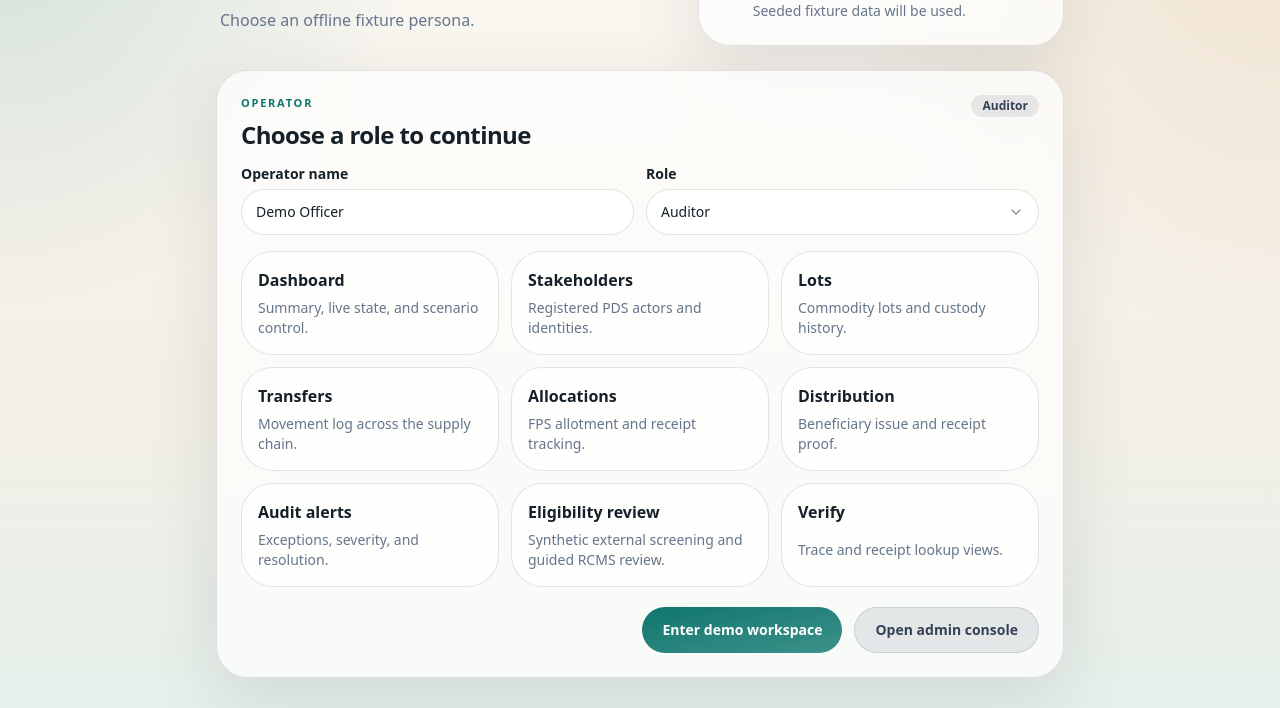
app shell › exposes eligibility review to oversight roles but keeps offline screening read-only
(page scrolled)
Step 1. Click the button "Enter demo workspace" → (742, 630), box [642, 607, 842, 653]
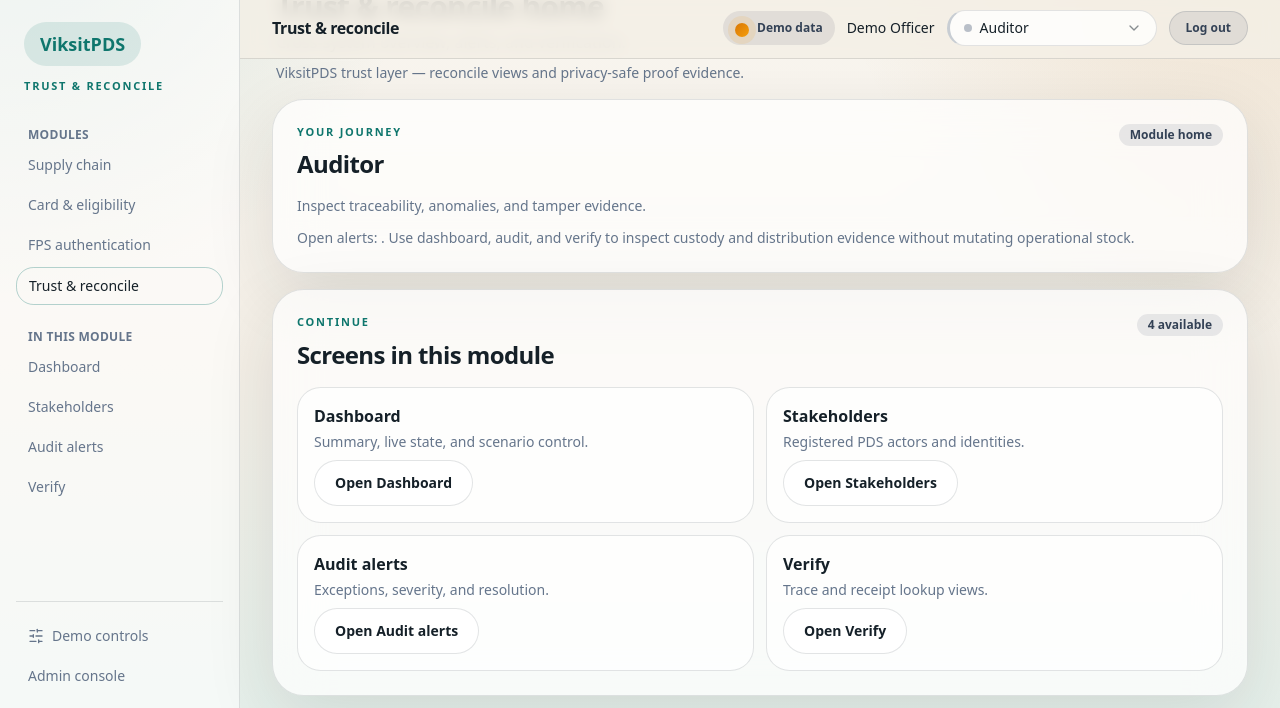
Step 2. Click the link "Card & eligibility" → (82, 204), box [28, 194, 135, 214]
(page scrolled)
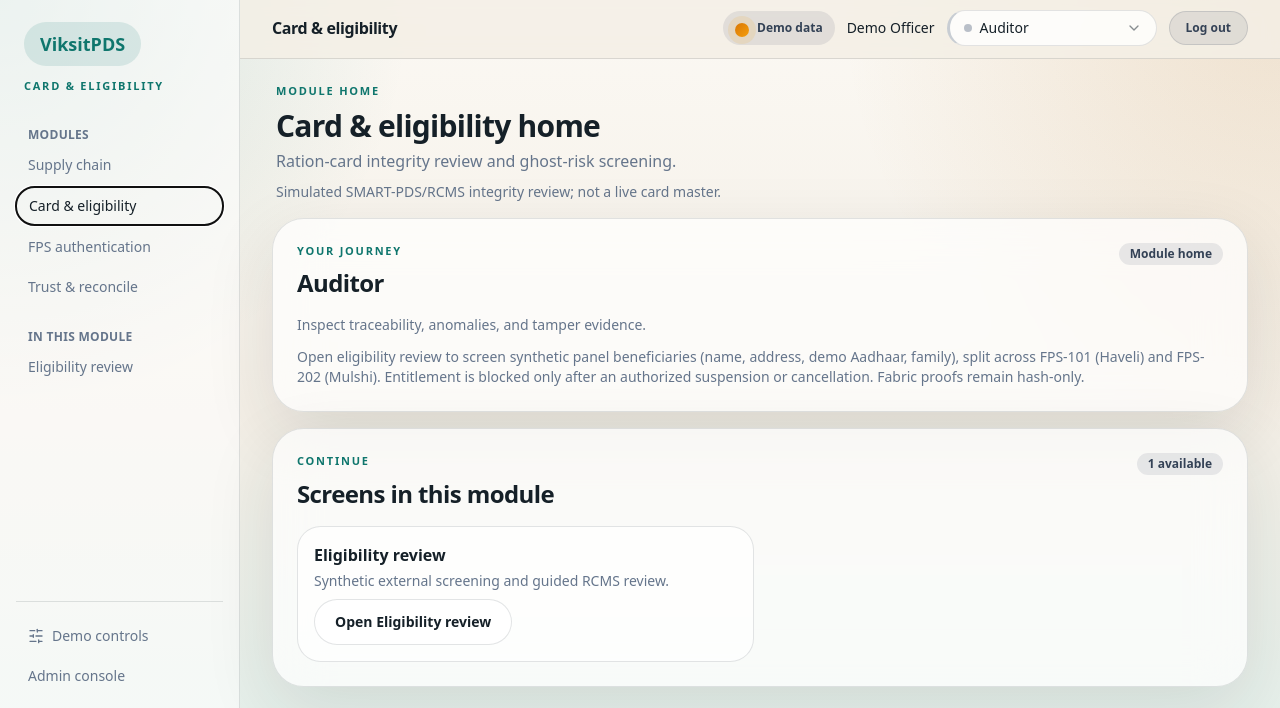
Step 3. Click the link "Eligibility review" → (80, 366), box [28, 356, 133, 376]
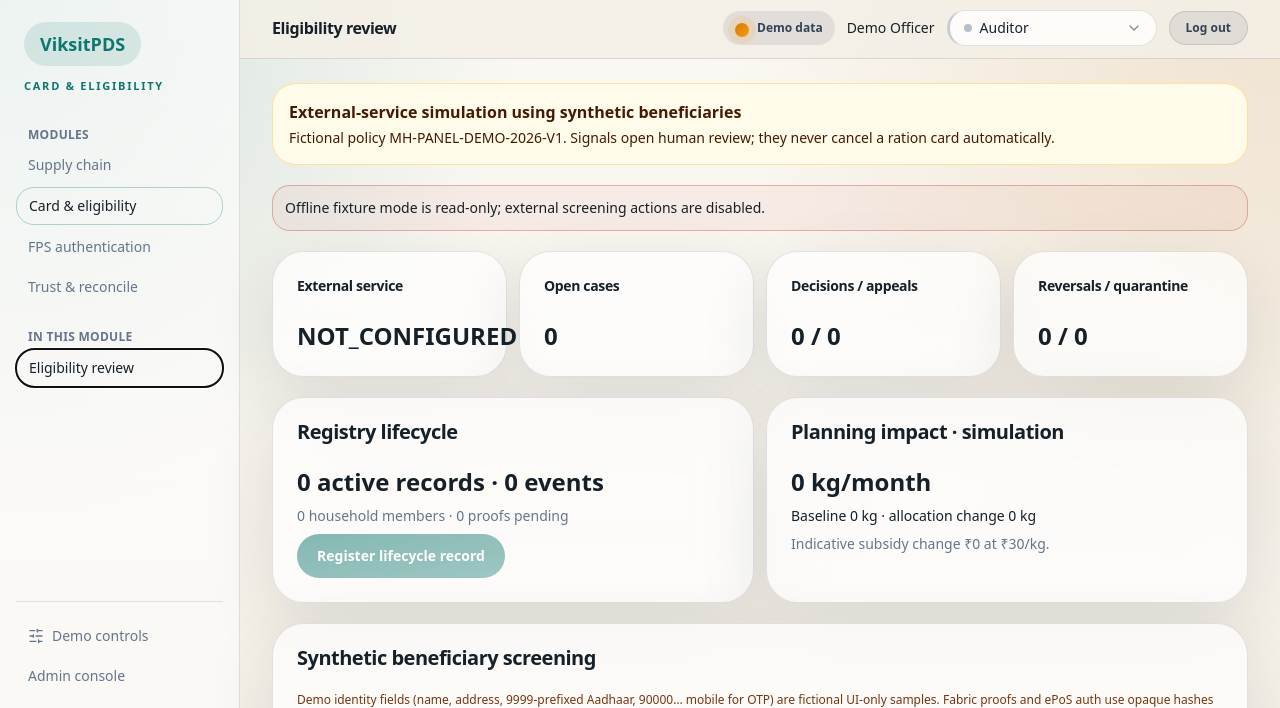
Expected: the text "External-service simulation using synthetic beneficiaries" is shown, [289, 101, 741, 123]
Expected: the text "Offline fixture mode is read-only; external screening actions are disabled." is shown, [272, 185, 1248, 231]
